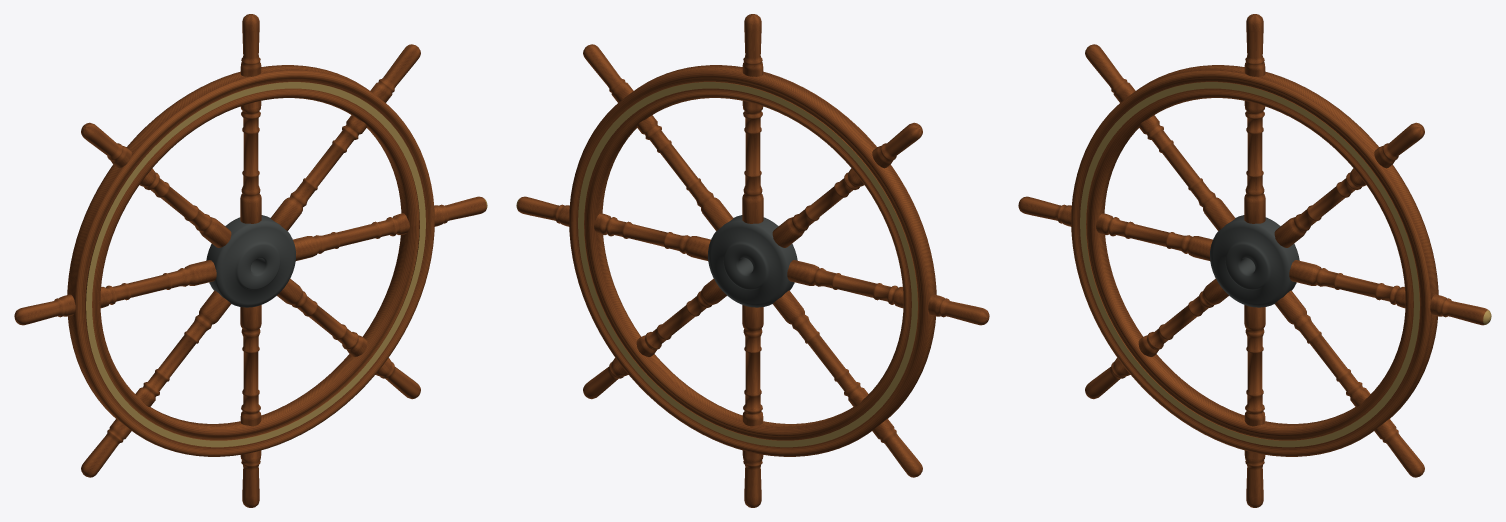
File: NEW451_ship_helm_LOD1.glb
The picture shows the model from 3 angles, left to right: view 1: azimuth 30°, elevation 25°; view 2: azimuth 150°, elevation 25°; view 3: azimuth 330°, elevation 25°; orthographic projection.
Parts seen in each view (by area): view 1: Rim_Continuous_Moulded, Hub_Cast_Through_Bore, Spindle_Handle_05, Spindle_Handle_01, Spindle_Handle_02, Spindle_Handle_04, Spindle_Handle_06, Spindle_Handle_00, Spindle_Handle_03, Spindle_Handle_07; view 2: Rim_Continuous_Moulded, Hub_Cast_Through_Bore, Spindle_Handle_05, Spindle_Handle_01, Spindle_Handle_02, Spindle_Handle_04, Spindle_Handle_06, Spindle_Handle_00, Spindle_Handle_03, Spindle_Handle_07; view 3: Rim_Continuous_Moulded, Hub_Cast_Through_Bore, Spindle_Handle_07, Spindle_Handle_03, Spindle_Handle_02, Spindle_Handle_00, Spindle_Handle_06, Spindle_Handle_04, Spindle_Handle_01, Spindle_Handle_05.
Boxes of the visible parts, <box> form: Rim_Continuous_Moulded: <box>67,65,434,456</box>; Hub_Cast_Through_Bore: <box>206,215,295,307</box>; Spindle_Handle_05: <box>81,290,230,477</box>; Spindle_Handle_01: <box>270,44,420,230</box>; Spindle_Handle_02: <box>240,14,261,223</box>; Spindle_Handle_04: <box>14,260,216,325</box>; Spindle_Handle_06: <box>240,305,261,507</box>; Spindle_Handle_00: <box>293,196,487,260</box>; Spindle_Handle_03: <box>81,122,231,247</box>; Spindle_Handle_07: <box>277,278,420,399</box>; Rim_Continuous_Moulded: <box>569,65,936,456</box>; Hub_Cast_Through_Bore: <box>708,215,797,307</box>; Spindle_Handle_05: <box>773,290,922,477</box>; Spindle_Handle_01: <box>583,44,733,230</box>; Spindle_Handle_02: <box>742,14,763,223</box>; Spindle_Handle_04: <box>787,260,989,325</box>; Spindle_Handle_06: <box>742,305,763,507</box>; Spindle_Handle_00: <box>516,196,710,260</box>; Spindle_Handle_03: <box>772,122,922,247</box>; Spindle_Handle_07: <box>583,278,726,399</box>; Rim_Continuous_Moulded: <box>1071,65,1438,456</box>; Hub_Cast_Through_Bore: <box>1210,215,1299,307</box>; Spindle_Handle_07: <box>1275,290,1424,477</box>; Spindle_Handle_03: <box>1085,44,1235,230</box>; Spindle_Handle_02: <box>1244,14,1265,223</box>; Spindle_Handle_00: <box>1289,260,1491,325</box>; Spindle_Handle_06: <box>1244,305,1265,507</box>; Spindle_Handle_04: <box>1018,196,1212,260</box>; Spindle_Handle_01: <box>1274,122,1424,247</box>; Spindle_Handle_05: <box>1085,278,1228,399</box>.
Size of the model in its own units: 1.25 by 1.25 by 0.075.
Materials: 3 (1 with a texture image).
